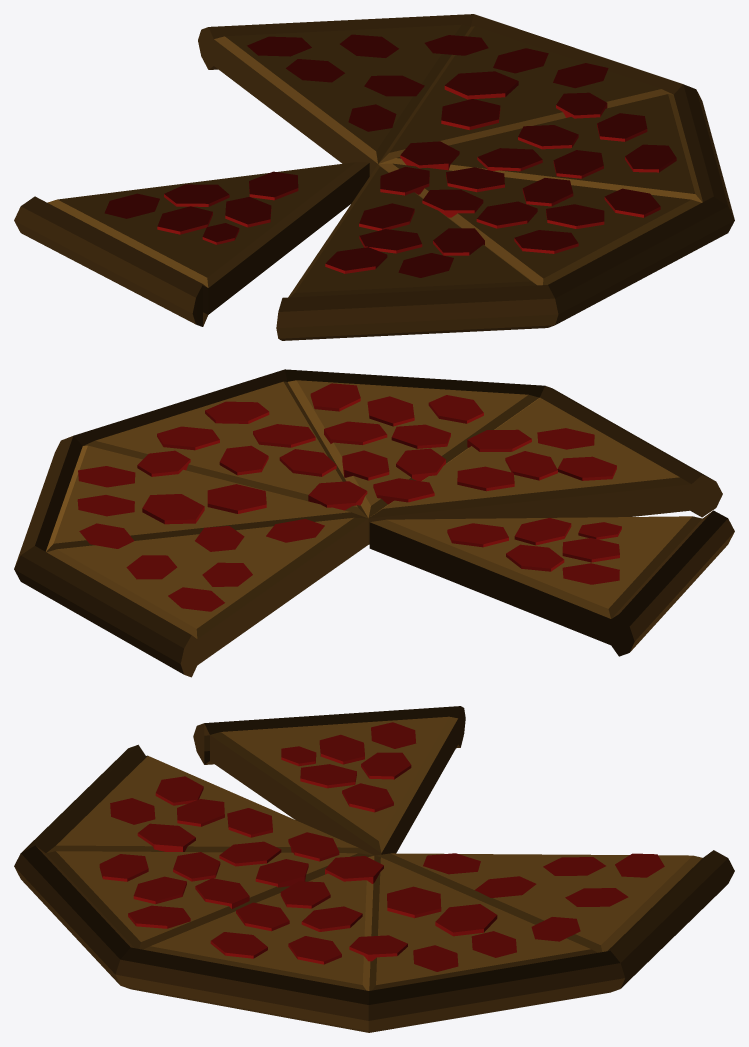
Rendered from Pizza.fbx.
3 views of the same model, one above another, from view 1: azimuth 30°, elevation 25°; view 2: azimuth 150°, elevation 25°; view 3: azimuth 270°, elevation 25° (orthographic). The views are drawn at different scales.
Parts seen in each view (by area): view 1: Pizza; view 2: Pizza; view 3: Pizza.
Boxes of the visible parts, x1,y1,x2,y2 form: Pizza: [14, 14, 734, 340]; Pizza: [14, 369, 734, 677]; Pizza: [14, 706, 734, 1032].
Size of the model in its own units: 0.3428 by 0.0225 by 0.3406.
